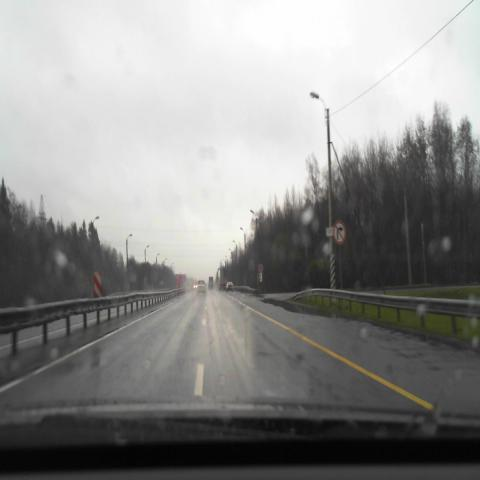3_18: (332, 220, 346, 245)
